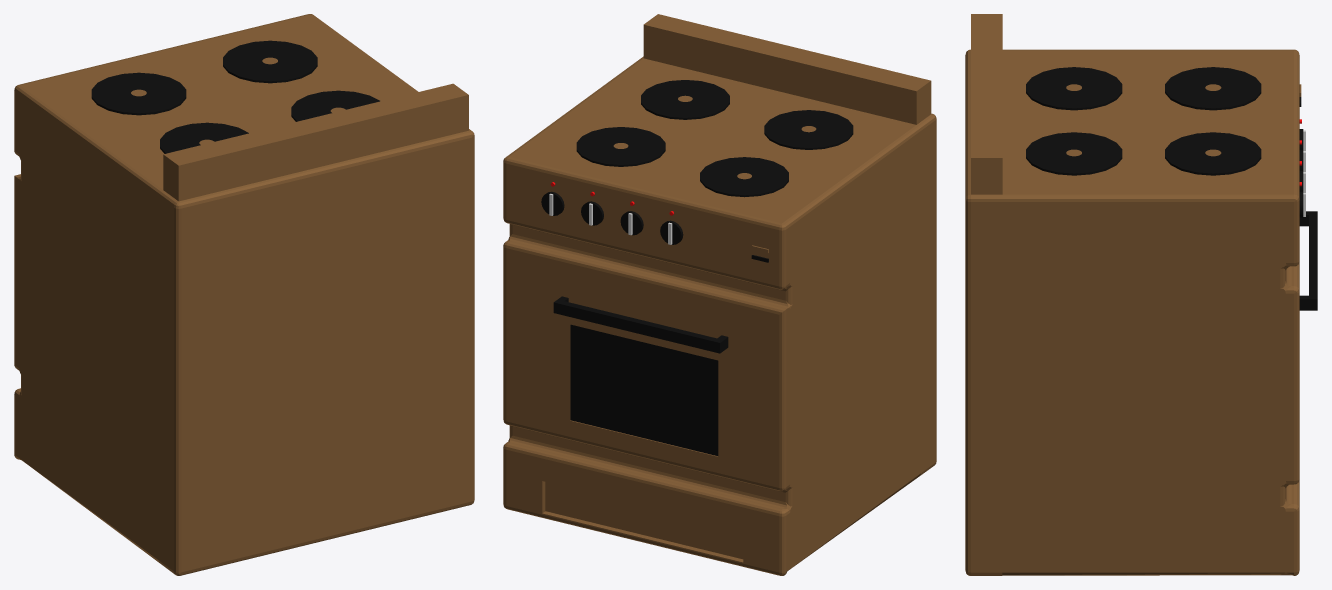
File: Stove.obj
The picture shows the model from 3 angles, left to right: view 1: azimuth 30°, elevation 25°; view 2: azimuth 150°, elevation 25°; view 3: azimuth 270°, elevation 25°; orthographic projection. The views are drawn at different scales.
Parts seen in each view (by area): view 1: Box012, Cylinder027, Cylinder021, Cylinder024, Cylinder025; view 2: Box012, Object007, Cylinder021, Cylinder025, Cylinder024, Cylinder027, Box017; view 3: Box012, Cylinder027, Cylinder024, Cylinder025, Cylinder021, Box017.
Boxes of the visible parts, box(x1,y1,x2,y2) form: Box012: box(14, 14, 474, 575); Cylinder027: box(91, 72, 186, 115); Cylinder021: box(223, 40, 317, 83); Cylinder024: box(291, 90, 379, 121); Cylinder025: box(160, 122, 248, 153); Box012: box(503, 14, 936, 575); Object007: box(570, 324, 718, 455); Cylinder021: box(576, 127, 665, 166); Cylinder025: box(764, 110, 853, 149); Cylinder024: box(641, 80, 729, 119); Cylinder027: box(700, 157, 788, 197); Box017: box(557, 300, 719, 351); Box012: box(965, 14, 1299, 575); Cylinder027: box(1165, 67, 1261, 110); Cylinder024: box(1026, 132, 1122, 175); Cylinder025: box(1026, 67, 1122, 110); Cylinder021: box(1165, 132, 1261, 175); Box017: box(1309, 213, 1317, 297).
Bounding box in the file's own units: 16765 × 21894 × 16757.
